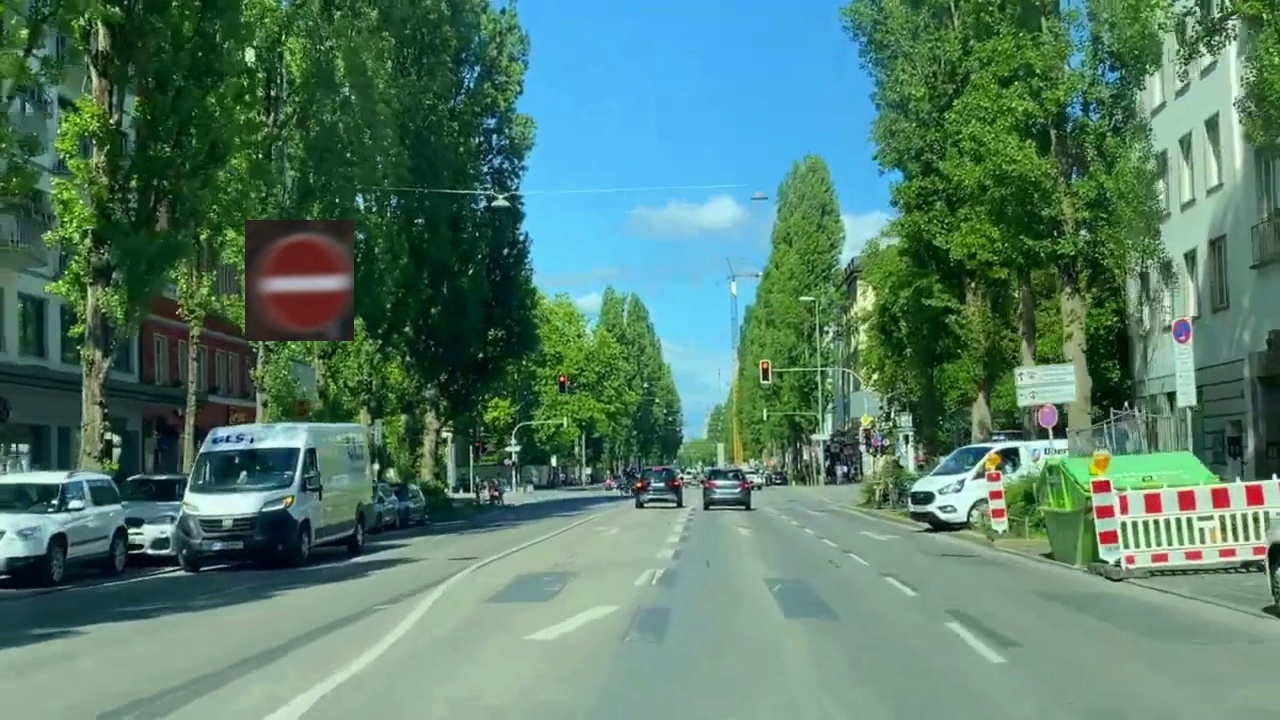No entry: (245, 220, 354, 341)
